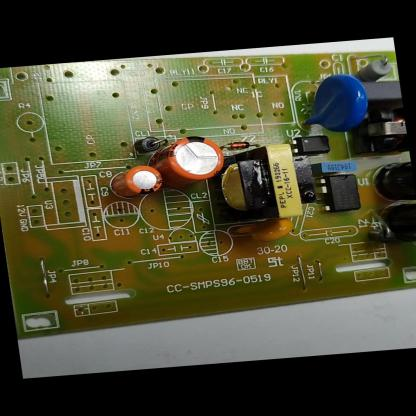Cap1: (150, 132, 227, 185)
Cap2: (105, 164, 166, 198)
Cap3: (362, 159, 416, 206)
Cap4: (382, 202, 416, 247)
MOSFET: (318, 173, 362, 213)
Mov: (298, 71, 372, 136)
Resistor: (356, 54, 395, 82)
Transformer: (197, 142, 318, 224), (351, 104, 409, 156)
